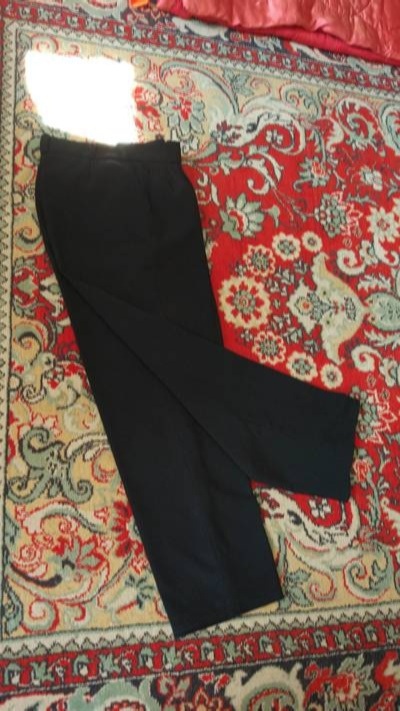Pants: (37, 80, 353, 647)
